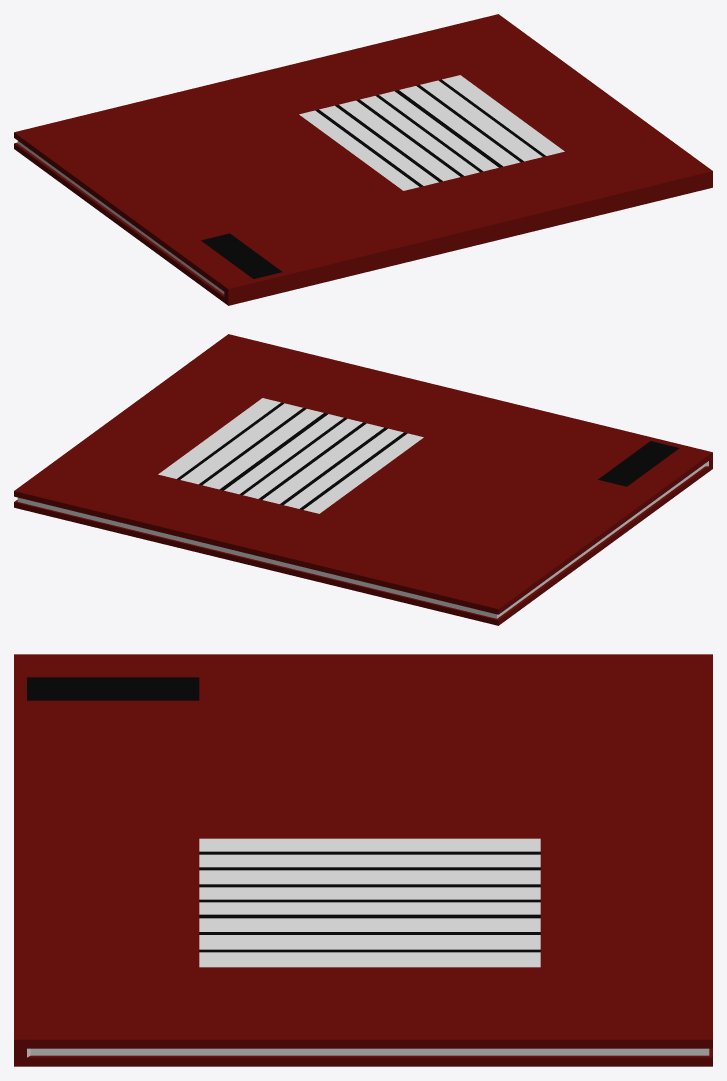
Rendered from book2.fbx.
3 views of the same model, one above another, from view 1: azimuth 30°, elevation 25°; view 2: azimuth 150°, elevation 25°; view 3: azimuth 270°, elevation 25° (orthographic). The views are drawn at different scales.
Visible parts, largest first — view 1: Куб; view 2: Куб; view 3: Куб.
Boxes of the visible parts, box(x1,y1,x2,y2) form: Куб: box(14, 14, 712, 305); Куб: box(14, 334, 712, 625); Куб: box(14, 654, 712, 1066).
Size of the model in its own units: 85.26 by 2.8 by 65.36.
